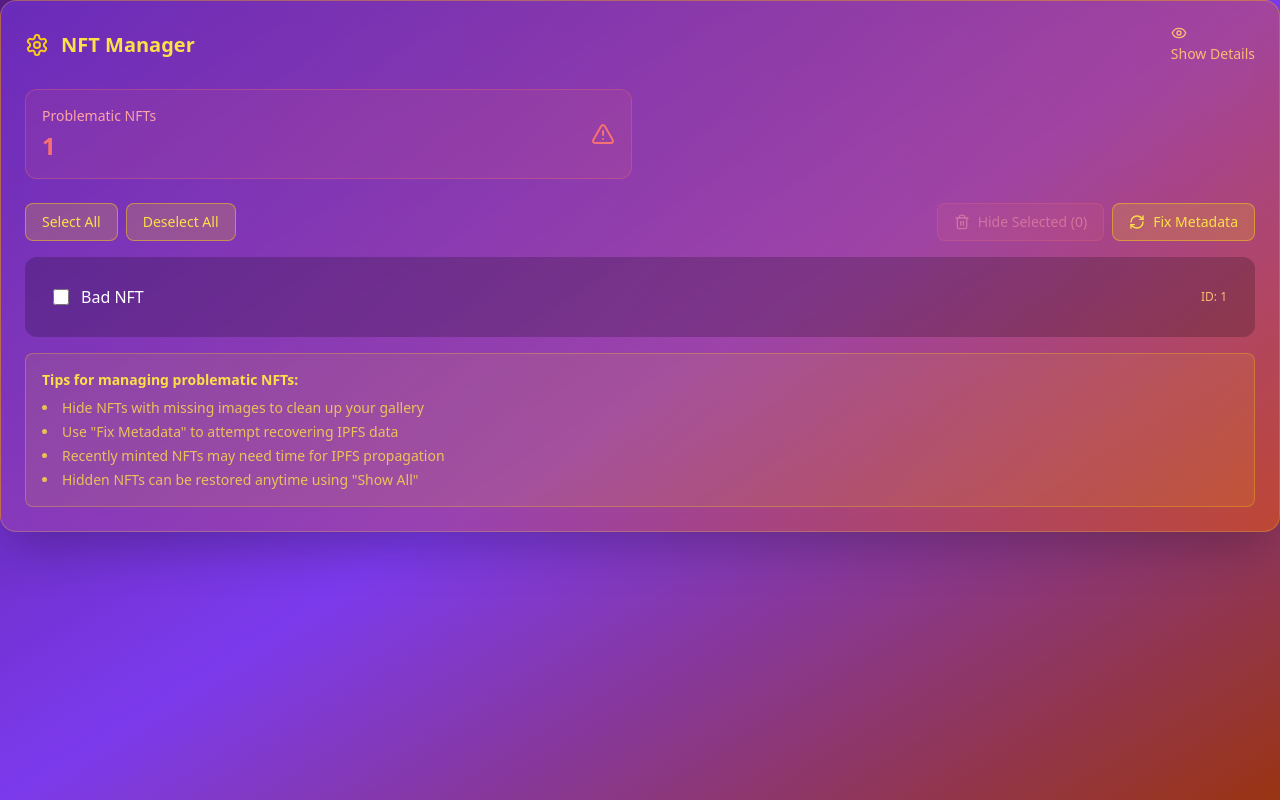
Test: NFTManager Component › disables buttons when processing
Select an NFT
Click the checkbox at (61, 297), box left=53, top=289, right=69, bottom=305
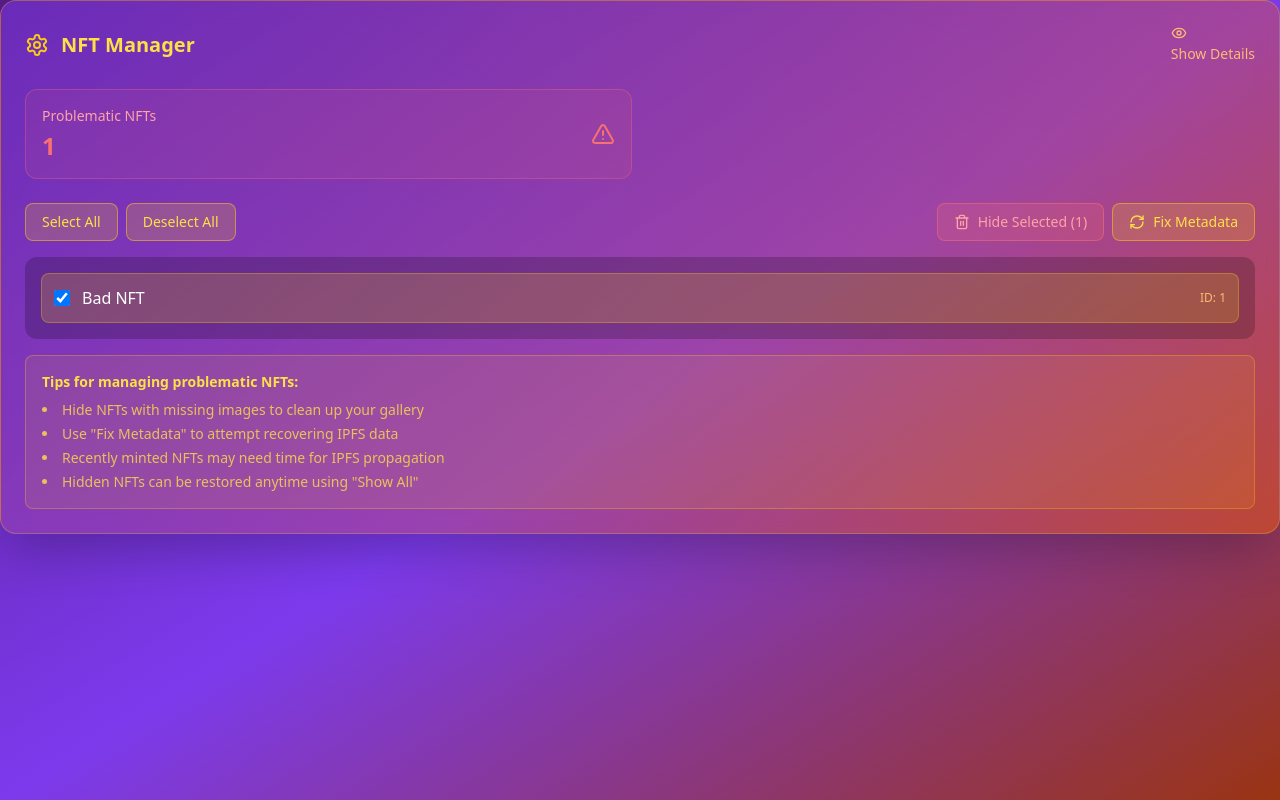
Expected: the button "Fix Metadata" is enabled, left=1112, top=203, right=1255, bottom=241
Expected: the button "Hide Selected (1)" is enabled, left=937, top=203, right=1104, bottom=241
